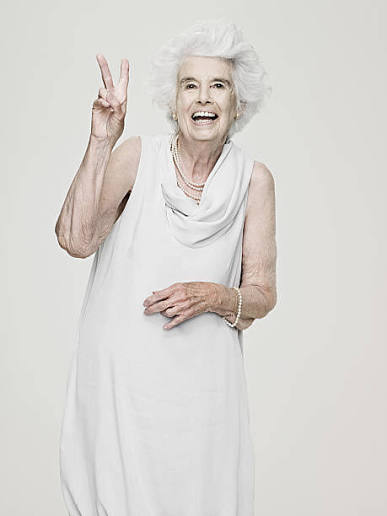peace_sign: (89, 48, 135, 140)
